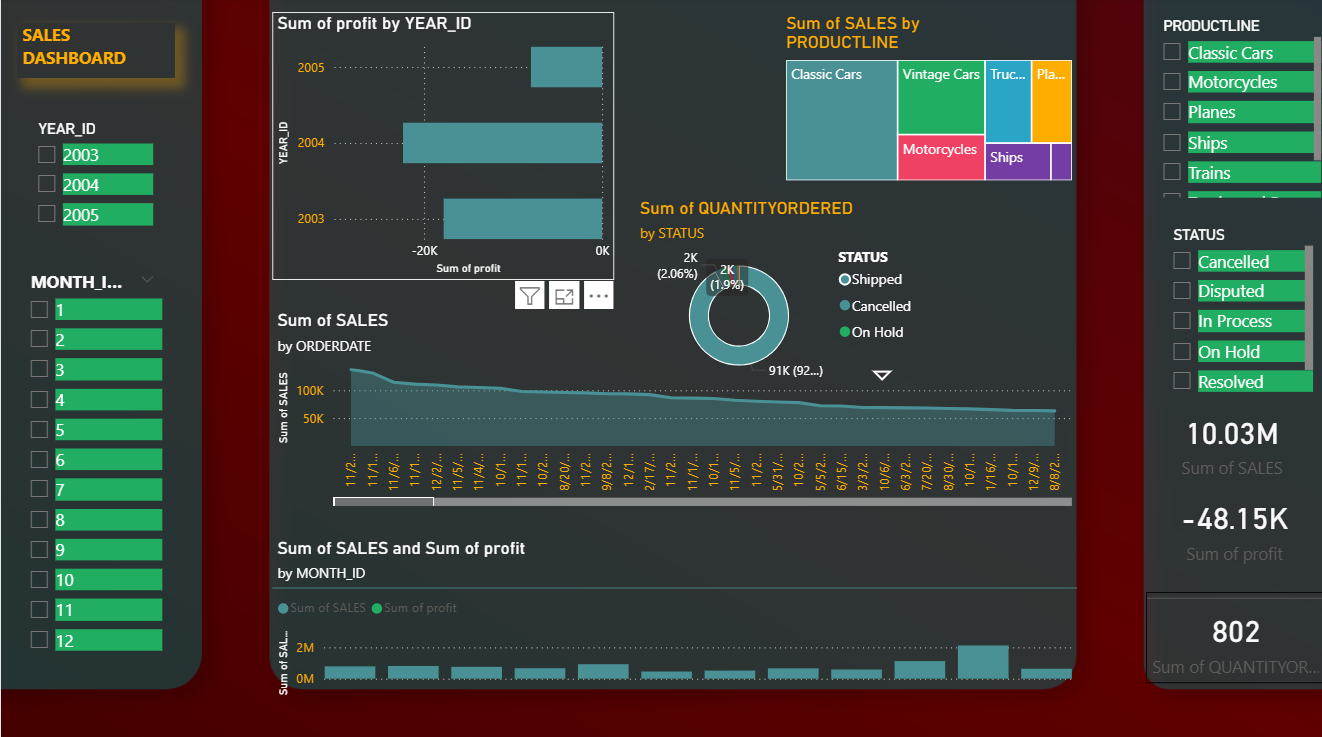

What the dashboard file says about the page in this screenshot:
{"tool":"powerbi","page":{"name":"Page 1","canvas":[1280,720],"ordinal":0},"visuals":[{"type":"slicer","fields":{"Values":["sales_data_sample (2).YEAR_ID"]},"box":[22.9,113.4,129.1,136.3],"z":0},{"type":"slicer","fields":{"Values":["sales_data_sample (2).MONTH_ID"]},"box":[15.7,258.2,144.8,383.6],"z":1000},{"type":"slicer","fields":{"Values":["sales_data_sample (2).PRODUCTLINE"]},"box":[1108.7,14.5,171.3,184.6],"z":2000},{"type":"card","fields":{"Values":["Sum(sales_data_sample (2).SALES)"]},"box":[1105.1,377.6,166.5,105],"z":3000},{"type":"card","fields":{"Values":["Sum(sales_data_sample (2).profit)"]},"box":[1101.5,472.9,178.6,79.6],"z":4000},{"type":"card","fields":{"Values":["Sum(sales_data_sample (2).QUANTITYORDERED)"]},"box":[1105.1,574.3,174.9,88.1],"z":5000},{"type":"stackedAreaChart","fields":{"Category":["sales_data_sample (2).ORDERDATE"],"Y":["Sum(sales_data_sample (2).SALES)"]},"box":[261.8,301.6,776.9,194.2],"z":6000},{"type":"slicer","fields":{"Values":["sales_data_sample (2).STATUS"]},"box":[1118.4,216,153.2,173.7],"z":7000},{"type":"columnChart","fields":{"Category":["sales_data_sample (2).MONTH_ID"],"Y":["Sum(sales_data_sample (2).SALES)","Sum(sales_data_sample (2).profit)"]},"box":[261.8,521.2,776.9,156.8],"z":8000},{"type":"donutChart","fields":{"Y":["Sum(sales_data_sample (2).QUANTITYORDERED)"],"Category":["sales_data_sample (2).STATUS"]},"box":[611.7,193,283.5,184.6],"z":9000},{"type":"treemap","fields":{"Values":["Sum(sales_data_sample (2).SALES)"],"Group":["sales_data_sample (2).PRODUCTLINE"]},"box":[752.8,14.5,285.9,167.7],"z":10000},{"type":"clusteredBarChart","fields":{"Category":["sales_data_sample (2).YEAR_ID"],"Y":["Sum(sales_data_sample (2).profit)"]},"box":[261.8,14.5,330.6,258.2],"z":11000},{"type":"textbox","title":"    SALES  DASHBOARD","box":[15.7,25.3,152,53.1],"z":12000}]}

Visuals, with their boxes in screenshot pixels (x1, y1, x2, y2), scaled from the page's 1280x720 canvas onto the 1322x737 screenshot:
slicer - sales_data_sample (2).YEAR_ID: box=[24, 116, 157, 256]
slicer - sales_data_sample (2).MONTH_ID: box=[16, 264, 166, 657]
slicer - sales_data_sample (2).PRODUCTLINE: box=[1145, 15, 1321, 204]
card - Sum(sales_data_sample (2).SALES): box=[1141, 387, 1313, 494]
card - Sum(sales_data_sample (2).profit): box=[1138, 484, 1321, 566]
card - Sum(sales_data_sample (2).QUANTITYORDERED): box=[1141, 588, 1321, 678]
stackedAreaChart - sales_data_sample (2).ORDERDATE x Sum(sales_data_sample (2).SALES): box=[270, 309, 1073, 508]
slicer - sales_data_sample (2).STATUS: box=[1155, 221, 1313, 399]
columnChart - sales_data_sample (2).MONTH_ID x Sum(sales_data_sample (2).SALES): box=[270, 534, 1073, 694]
donutChart - Sum(sales_data_sample (2).QUANTITYORDERED) x sales_data_sample (2).STATUS: box=[632, 198, 925, 387]
treemap - Sum(sales_data_sample (2).SALES) x sales_data_sample (2).PRODUCTLINE: box=[778, 15, 1073, 187]
clusteredBarChart - sales_data_sample (2).YEAR_ID x Sum(sales_data_sample (2).profit): box=[270, 15, 612, 279]
"    SALES  DASHBOARD" textbox: box=[16, 26, 173, 80]
